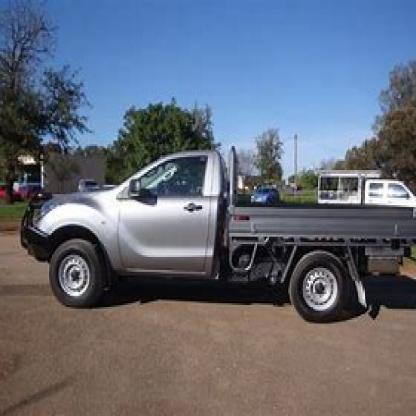light_vehicle: (22, 139, 414, 331)
